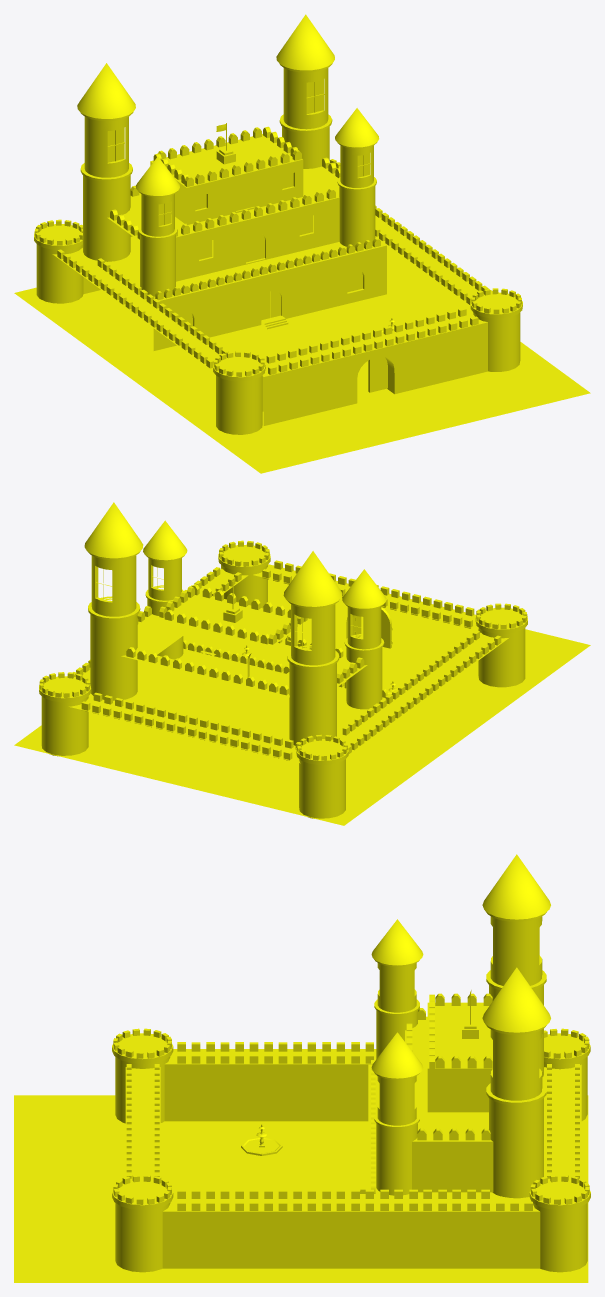
Rendered from castle.gltf.
3 views of the same model, one above another, from view 1: azimuth 30°, elevation 25°; view 2: azimuth 150°, elevation 25°; view 3: azimuth 270°, elevation 25° (orthographic). The views are drawn at different scales.
Parts seen in each view (by area): view 1: Ground_and_Fountain, Castle_Exterior, Castle_Interior, Towers_Doors_and_Windows; view 2: Ground_and_Fountain, Castle_Exterior, Towers_Doors_and_Windows, Castle_Interior; view 3: Castle_Exterior, Ground_and_Fountain, Towers_Doors_and_Windows, Castle_Interior.
Part boxes in pixels (bbox=[...]): Ground_and_Fountain: bbox=[14, 246, 590, 473]; Castle_Exterior: bbox=[34, 159, 522, 434]; Castle_Interior: bbox=[81, 123, 386, 350]; Towers_Doors_and_Windows: bbox=[77, 14, 387, 395]; Ground_and_Fountain: bbox=[14, 579, 590, 825]; Castle_Exterior: bbox=[39, 540, 527, 818]; Towers_Doors_and_Windows: bbox=[84, 502, 392, 745]; Castle_Interior: bbox=[89, 581, 387, 746]; Castle_Exterior: bbox=[112, 1028, 590, 1272]; Ground_and_Fountain: bbox=[14, 1095, 588, 1282]; Towers_Doors_and_Windows: bbox=[354, 854, 550, 1198]; Castle_Interior: bbox=[368, 990, 544, 1196].
Bounding box in the file's own units: 0.5811 × 0.4026 × 0.756.
Materials: 4 (4 with a texture image).
